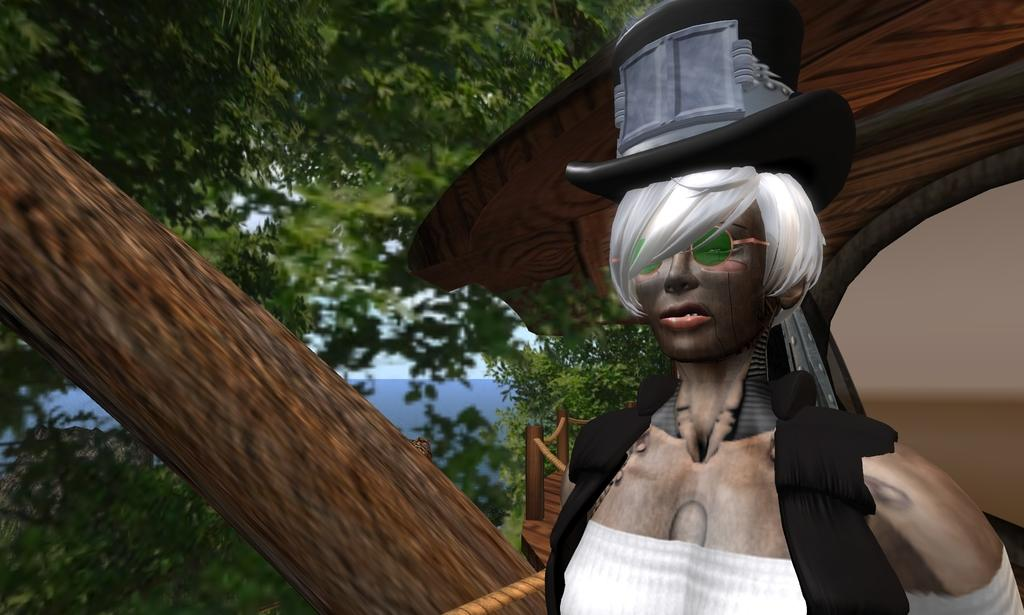Hat: (566, 0, 856, 213)
